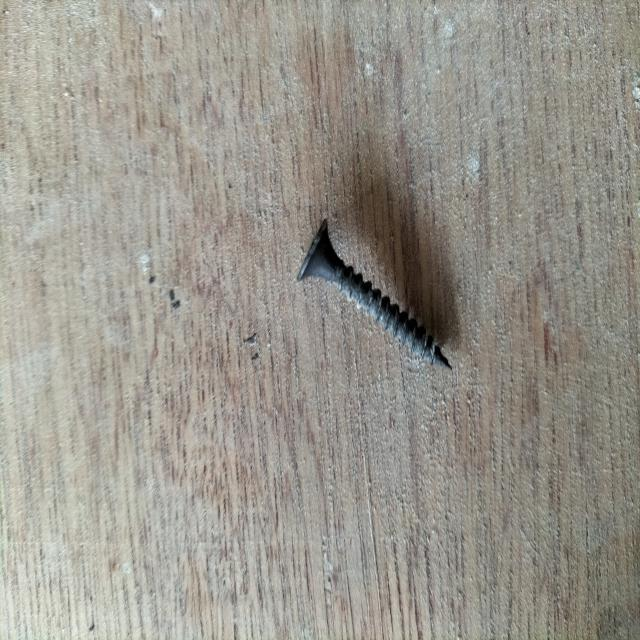screw: (296, 220, 454, 371)
